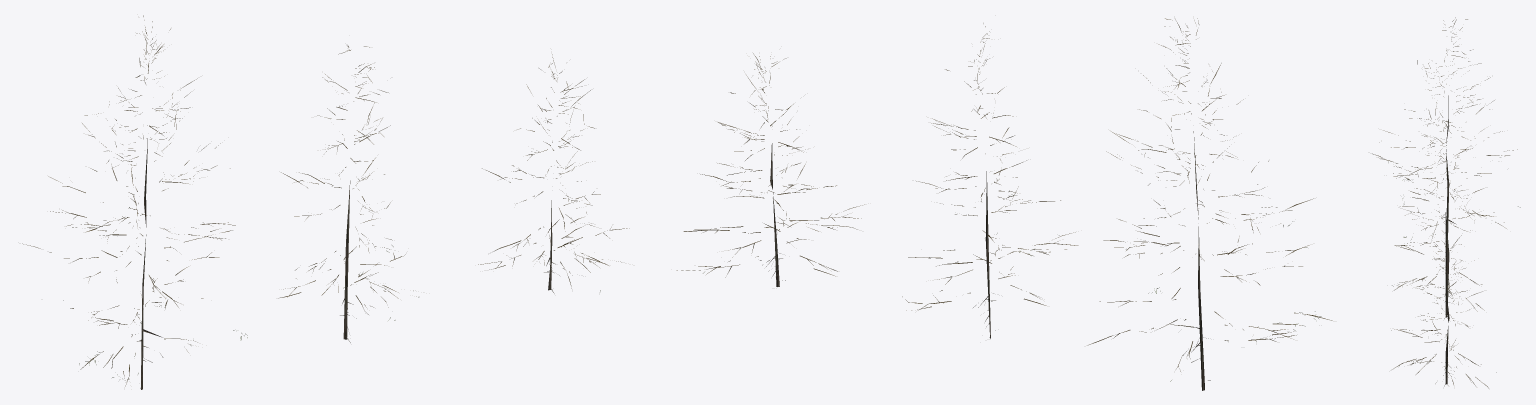
File: fir_small.glb
3 views of the same model, side by side, from view 1: azimuth 30°, elevation 25°; view 2: azimuth 150°, elevation 25°; view 3: azimuth 270°, elevation 25° (orthographic). The views are drawn at different scales.
Parts seen in each view (by area): view 1: fir_sapling_medium_a_LOD0, fir_sapling_medium_b_LOD0, fir_sapling_medium_c_LOD0; view 2: fir_sapling_medium_a_LOD0, fir_sapling_medium_c_LOD0, fir_sapling_medium_b_LOD0; view 3: fir_sapling_medium_a_LOD0, fir_sapling_medium_b_LOD0, fir_sapling_medium_c_LOD0.
Boxes of the visible parts, left/top/right/bottom form: fir_sapling_medium_a_LOD0: left=22, top=15, right=247, bottom=389; fir_sapling_medium_b_LOD0: left=278, top=45, right=418, bottom=342; fir_sapling_medium_c_LOD0: left=478, top=54, right=629, bottom=293; fir_sapling_medium_a_LOD0: left=1087, top=18, right=1332, bottom=390; fir_sapling_medium_c_LOD0: left=676, top=53, right=864, bottom=286; fir_sapling_medium_b_LOD0: left=902, top=23, right=1078, bottom=338; fir_sapling_medium_a_LOD0: left=1372, top=17, right=1520, bottom=239; fir_sapling_medium_b_LOD0: left=1392, top=122, right=1484, bottom=320; fir_sapling_medium_c_LOD0: left=1391, top=231, right=1496, bottom=388.
Size of the model in its own units: 14.51 by 8.63 by 4.93.
3 materials, 3 textured.
